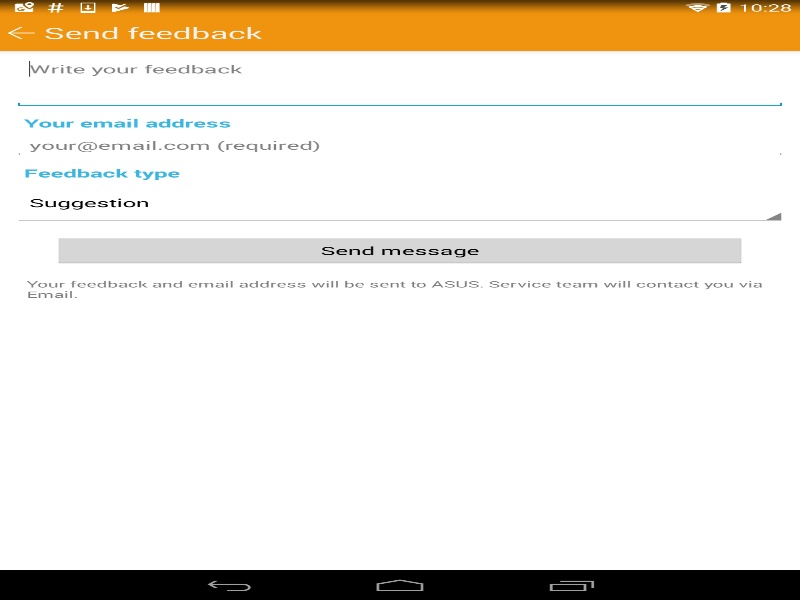Button: (53, 235, 746, 265)
Input: (13, 56, 786, 107), (13, 133, 786, 157)
